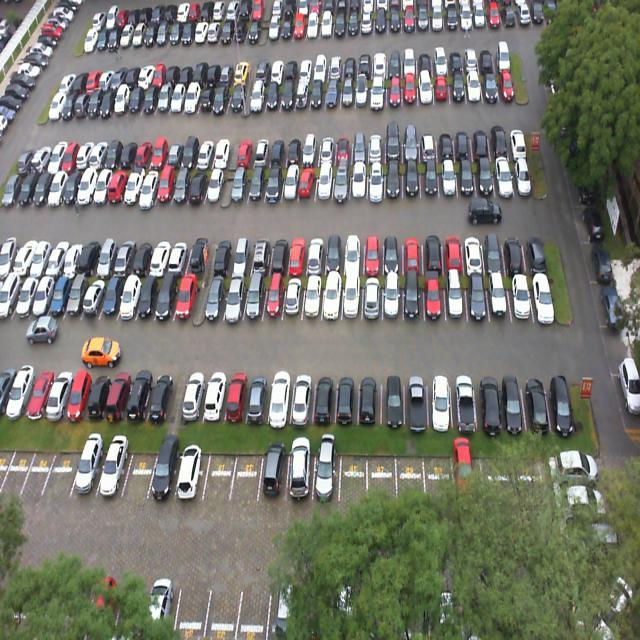space-empty: (123, 442, 158, 502), (43, 445, 78, 499), (231, 451, 264, 504), (204, 448, 238, 498), (21, 446, 55, 494)
space-occupied: (94, 445, 132, 502), (71, 446, 106, 501), (148, 444, 182, 500), (545, 370, 576, 426), (499, 373, 528, 432), (175, 445, 208, 496), (312, 451, 342, 507), (223, 370, 254, 424), (259, 448, 290, 500), (523, 371, 550, 428), (64, 367, 93, 420), (476, 372, 502, 429), (117, 271, 146, 322), (222, 272, 249, 326), (83, 371, 112, 421), (288, 449, 314, 504), (106, 371, 134, 422), (452, 374, 479, 426), (136, 267, 162, 320), (428, 375, 454, 428), (127, 370, 154, 420), (312, 372, 336, 428), (268, 373, 294, 424), (154, 274, 180, 324), (203, 370, 229, 420), (246, 372, 272, 422), (262, 270, 286, 324), (530, 270, 557, 318), (148, 374, 175, 422), (359, 371, 382, 426), (174, 272, 198, 324), (382, 371, 405, 424), (101, 270, 125, 320), (241, 275, 265, 325), (335, 373, 359, 423), (290, 372, 313, 424), (405, 374, 428, 426), (486, 273, 511, 320), (483, 227, 507, 275), (181, 373, 206, 418), (443, 226, 466, 273), (205, 273, 225, 327), (130, 236, 156, 276), (113, 238, 140, 276), (509, 276, 532, 320), (303, 276, 324, 324), (155, 165, 178, 208), (525, 229, 548, 272), (444, 277, 467, 320), (467, 275, 488, 322), (148, 237, 172, 278), (188, 164, 211, 206), (363, 276, 384, 322), (282, 276, 302, 324), (167, 238, 192, 276), (505, 227, 526, 272), (322, 277, 343, 322), (425, 229, 445, 276), (188, 239, 212, 278), (139, 165, 162, 205), (511, 156, 534, 196), (287, 234, 310, 274), (404, 226, 424, 272), (404, 274, 424, 320), (426, 276, 446, 322), (172, 165, 193, 208), (382, 231, 404, 272), (229, 238, 252, 277), (204, 166, 226, 206), (464, 228, 484, 272), (231, 164, 252, 205), (213, 239, 236, 276), (384, 276, 402, 322), (307, 234, 328, 273), (345, 231, 364, 274), (268, 236, 290, 272), (251, 235, 272, 272), (345, 275, 362, 320), (324, 235, 344, 273), (364, 235, 383, 273), (458, 162, 478, 198), (478, 158, 496, 198), (299, 166, 317, 205), (494, 160, 514, 195), (267, 166, 284, 207), (283, 164, 300, 205), (250, 166, 268, 204), (368, 162, 386, 200), (422, 163, 440, 198), (333, 165, 350, 202), (388, 162, 404, 200), (403, 163, 420, 198), (440, 162, 458, 195), (316, 166, 332, 200), (351, 164, 367, 198)
